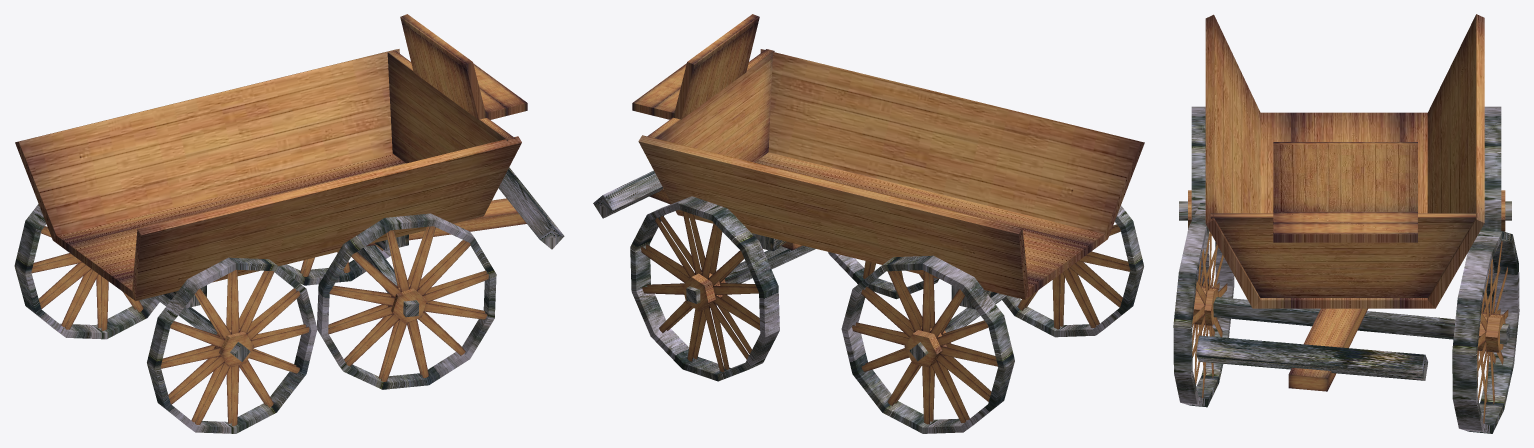
The model's file is wagonLoPoly.obj.
3 renders of one model, left to right at view 1: azimuth 30°, elevation 25°; view 2: azimuth 150°, elevation 25°; view 3: azimuth 270°, elevation 25°, orthographic. The views are drawn at different scales.
Parts seen in each view (by area): view 1: Box529, Box530, Tube50, Tube52, Box525, Tube49, Cylinder20, Box526, Tube51, Cylinder18, Cylinder279, Box7403 (+28 smaller); view 2: Box529, Tube51, Tube49, Box530, Box525, Tube50, Cylinder20, Cylinder18, Tube52, Cylinder277, Box7385, Box7377 (+22 smaller); view 3: Box529, Box525, Box530, Tube51, Cylinder20, Tube52, Cylinder18, Box526, Tube49, Tube50, Cylinder281, Cylinder282.
Boxes of the visible parts, bbox=[...] form: Box529: bbox=[15, 49, 521, 300]; Box530: bbox=[387, 50, 515, 163]; Tube50: bbox=[147, 257, 317, 433]; Tube52: bbox=[317, 213, 496, 389]; Box525: bbox=[400, 14, 527, 119]; Tube49: bbox=[14, 204, 159, 339]; Cylinder20: bbox=[498, 167, 564, 249]; Box526: bbox=[366, 198, 526, 246]; Tube51: bbox=[279, 246, 390, 285]; Cylinder18: bbox=[357, 245, 419, 317]; Cylinder279: bbox=[153, 294, 250, 361]; Box7403: bbox=[417, 240, 470, 296]; Box529: bbox=[638, 49, 1144, 299]; Tube51: bbox=[630, 196, 779, 381]; Tube49: bbox=[841, 255, 1014, 433]; Box530: bbox=[647, 49, 774, 162]; Box525: bbox=[632, 14, 759, 119]; Tube50: bbox=[1002, 205, 1143, 337]; Cylinder20: bbox=[593, 170, 663, 218]; Cylinder18: bbox=[686, 245, 815, 303]; Tube52: bbox=[828, 252, 938, 299]; Cylinder277: bbox=[904, 327, 950, 367]; Box7385: bbox=[931, 360, 969, 422]; Box7377: bbox=[887, 271, 922, 331]; Box529: bbox=[1205, 14, 1484, 308]; Box525: bbox=[1273, 142, 1417, 242]; Box530: bbox=[1210, 213, 1477, 297]; Tube51: bbox=[1452, 229, 1519, 433]; Cylinder20: bbox=[1196, 335, 1427, 380]; Tube52: bbox=[1173, 203, 1234, 407]; Cylinder18: bbox=[1213, 297, 1509, 344]; Box526: bbox=[1288, 308, 1367, 391]; Tube49: bbox=[1481, 106, 1501, 313]; Tube50: bbox=[1191, 106, 1208, 286]; Cylinder281: bbox=[1477, 312, 1505, 352]; Cylinder282: bbox=[1193, 286, 1218, 325].
Bounding box in the file's own units: 19.86 × 11.62 × 11.85.
Materials: 2 (2 with a texture image).
